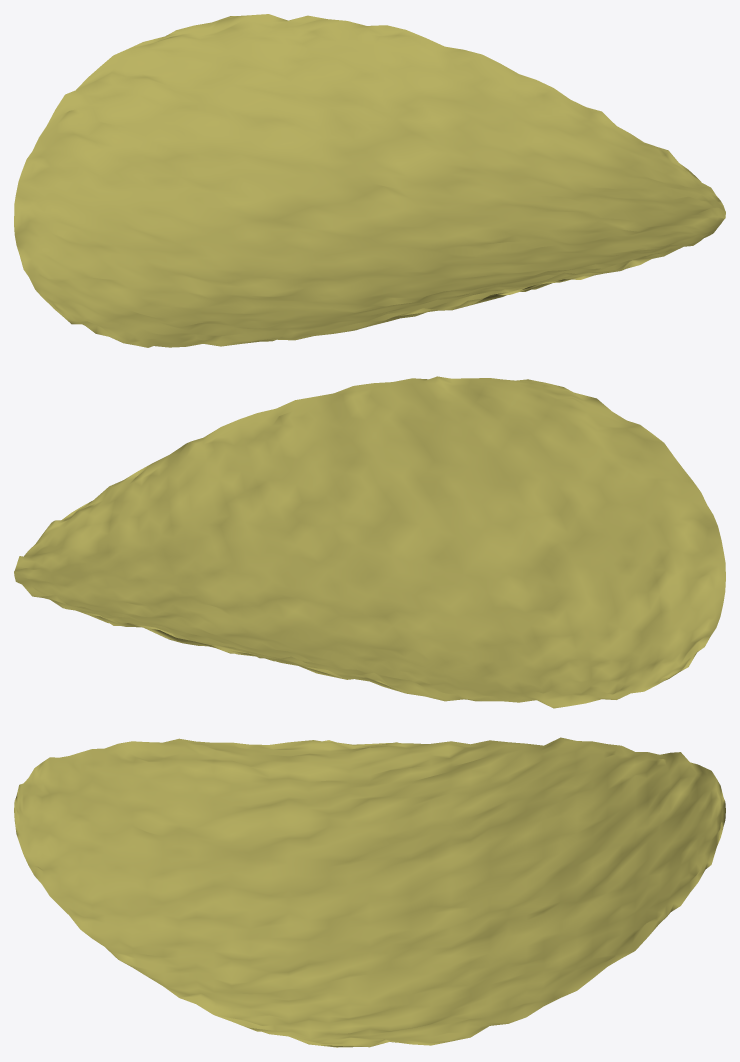
Rendered from shupian.fbx.
3 views of the same model, one above another, from view 1: azimuth 30°, elevation 25°; view 2: azimuth 150°, elevation 25°; view 3: azimuth 270°, elevation 25° (orthographic).
Parts seen in each view (by area): view 1: Circle001; view 2: Circle001; view 3: Circle001.
Part boxes in pixels (bbox=[...]): Circle001: bbox=[14, 14, 725, 347]; Circle001: bbox=[14, 376, 725, 708]; Circle001: bbox=[14, 737, 725, 1047].
Bounding box in the file's own units: 85.54 × 11.98 × 84.52.
